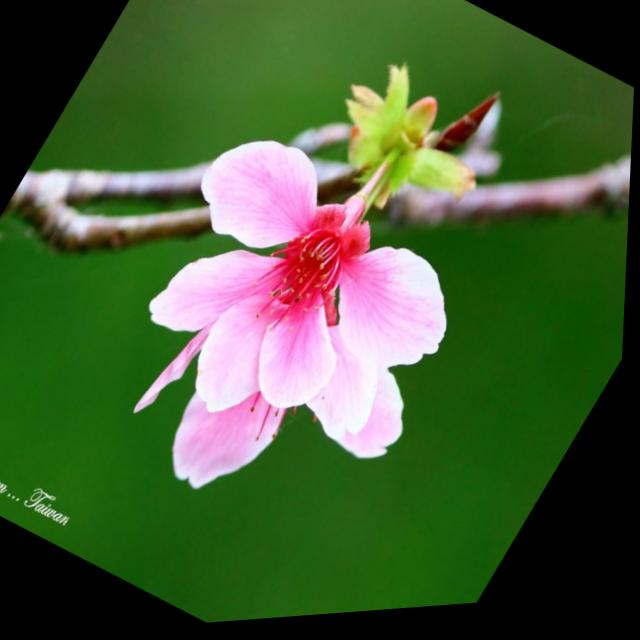Flower: (53, 72, 531, 574)
